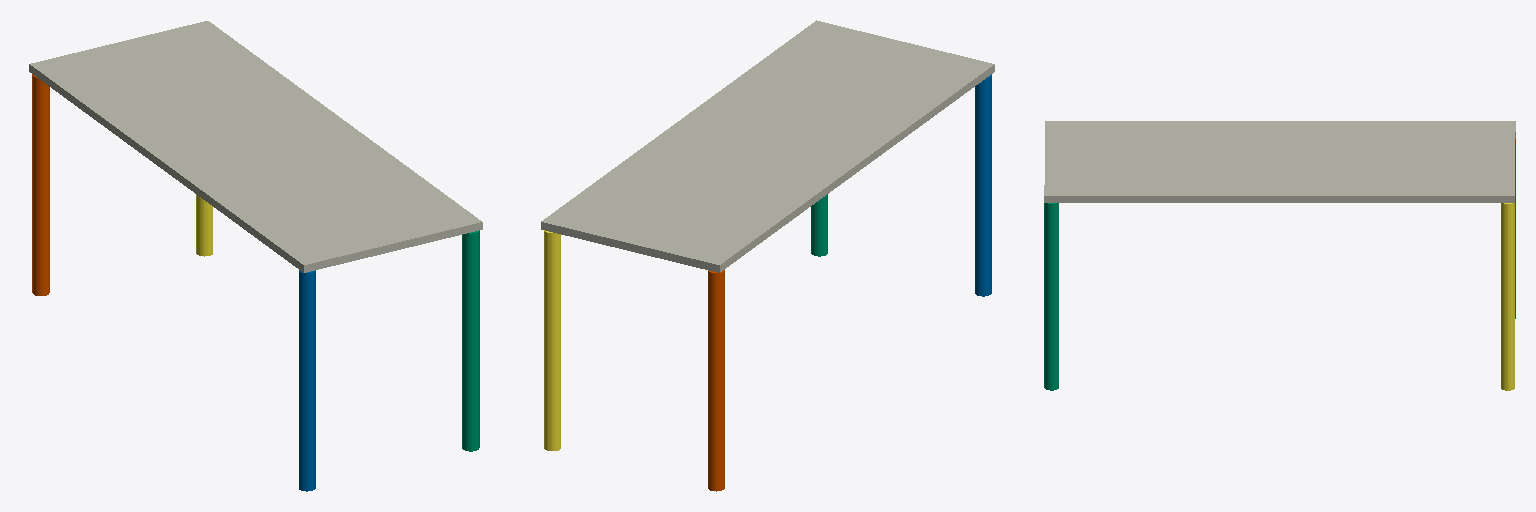
robot.urdf — table:
<robot name="table">
  <material name="KitchenWhite">
    <color rgba="0.75 0.75 0.7 1.0"/>
  </material>
  <material name="KitchenLightGray">
    <color rgba="0.7 0.7 0.7 1.0"/>
  </material>
  <link name="base_link">
    <inertial>
      <mass value="2.0"/>
      <inertia ixx="0.0601041666667" ixy="0" ixz="0" iyy="0.486666666667" iyz="0" izz="0.426770833333"/>
    </inertial>
  </link>
  <joint name="pancake_table_table_joint" type="fixed">
    <parent link="base_link"/>
    <child link="pancake_table_table_link"/>
    <origin rpy="0 0 1.57" xyz="0.8 0 0"/>
  </joint>
  <joint name="pancake_table_table_top_joint" type="fixed">
    <origin rpy="0 0 0" xyz="0 0 0.7175"/>
    <parent link="pancake_table_table_link"/>
    <child link="pancake_table_table_top_link"/>
  </joint>
  <link name="pancake_table_table_top_link">
    <inertial>
      <mass value="2.0"/>
      <inertia ixx="0.0601041666667" ixy="0" ixz="0" iyy="0.486666666667" iyz="0" izz="0.426770833333"/>
    </inertial>
    <visual>
      <origin rpy="0 0 0" xyz="0 0 0"/>
      <geometry>
        <box size="1.6 0.6 0.025"/>
      </geometry>
      <material name="KitchenWhite"/>
    </visual>
    <collision>
      <origin rpy="0 0 0" xyz="0 0 0"/>
      <geometry>
        <box size="1.6 0.6 0.025"/>
      </geometry>
    </collision>
  </link>
  <gazebo reference="pancake_table_table_top_link">
    <kp>100000</kp>
    <kd>1000000</kd>
    <mu1>50000</mu1>
    <mu2>50000</mu2>
    <material value="KitchenWhite"/>
  </gazebo>
  <joint name="pancake_table_first_leg_joint" type="fixed">
    <origin rpy="0 0 0 " xyz="-0.775 -0.275 0.350"/>
    <parent link="pancake_table_table_link"/>
    <child link="pancake_table_first_leg_link"/>
  </joint>
  <link name="pancake_table_first_leg_link">
    <inertial>
      <mass value="1.0"/>
      <inertia ixx="0.0409895833333" ixy="0" ixz="0" iyy="0.0003125" iyz="0" izz="0.0409895833333"/>
    </inertial>
    <visual>
      <origin rpy="0 0 0" xyz="0 0 0"/>
      <geometry>
        <cylinder length="0.700" radius="0.025"/>
      </geometry>
    </visual>
    <collision>
      <origin rpy="0 0 0" xyz="0 0 0"/>
      <geometry>
        <cylinder length="0.700" radius="0.025"/>
      </geometry>
    </collision>
  </link>
  <gazebo reference="pancake_table_first_leg_link">
    <material value="KitchenLightGray"/>
  </gazebo>
  <joint name="pancake_table_second_leg_joint" type="fixed">
    <origin rpy="0 0 0" xyz="0.775 -0.275 0.350"/>
    <parent link="pancake_table_table_link"/>
    <child link="pancake_table_second_leg_link"/>
  </joint>
  <link name="pancake_table_second_leg_link">
    <inertial>
      <mass value="1.0"/>
      <inertia ixx="0.0409895833333" ixy="0" ixz="0" iyy="0.0003125" iyz="0" izz="0.0409895833333"/>
    </inertial>
    <visual>
      <origin rpy="0 0 0" xyz="0 0 0"/>
      <geometry>
        <cylinder length="0.700" radius="0.025"/>
      </geometry>
    </visual>
    <collision>
      <origin rpy="0 0 0" xyz="0 0 0"/>
      <geometry>
        <cylinder length="0.700" radius="0.025"/>
      </geometry>
    </collision>
  </link>
  <gazebo reference="pancake_table_second_leg_link">
    <material value="KitchenLightGray"/>
  </gazebo>
  <joint name="pancake_table_third_leg_joint" type="fixed">
    <origin rpy="0 0 0" xyz="-0.775 0.275 0.350"/>
    <parent link="pancake_table_table_link"/>
    <child link="pancake_table_third_leg_link"/>
  </joint>
  <link name="pancake_table_third_leg_link">
    <inertial>
      <mass value="1.0"/>
      <inertia ixx="0.0409895833333" ixy="0" ixz="0" iyy="0.0003125" iyz="0" izz="0.0409895833333"/>
    </inertial>
    <visual>
      <origin rpy="0 0 0" xyz="0 0 0"/>
      <geometry>
        <cylinder length="0.700" radius="0.025"/>
      </geometry>
    </visual>
    <collision>
      <origin rpy="0 0 0" xyz="0 0 0"/>
      <geometry>
        <cylinder length="0.700" radius="0.025"/>
      </geometry>
    </collision>
  </link>
  <gazebo reference="pancake_table_third_leg_link">
    <material value="KitchenLightGray"/>
  </gazebo>
  <joint name="pancake_table_fourth_leg_joint" type="fixed">
    <origin rpy="0 0 0" xyz="0.775 0.275 0.350"/>
    <parent link="pancake_table_table_link"/>
    <child link="pancake_table_fourth_leg_link"/>
  </joint>
  <link name="pancake_table_fourth_leg_link">
    <inertial>
      <mass value="1.0"/>
      <inertia ixx="0.0409895833333" ixy="0" ixz="0" iyy="0.0003125" iyz="0" izz="0.0409895833333"/>
    </inertial>
    <visual>
      <origin rpy="0 0 0" xyz="0 0 0"/>
      <geometry>
        <cylinder length="0.700" radius="0.025"/>
      </geometry>
    </visual>
    <collision>
      <origin rpy="0 0 0" xyz="0 0 0"/>
      <geometry>
        <cylinder length="0.700" radius="0.025"/>
      </geometry>
    </collision>
  </link>
  <gazebo reference="pancake_table_fourth_leg_link">
    <material value="KitchenLightGray"/>
  </gazebo>
  <link name="pancake_table_table_link">
    <inertial>
      <mass value="0"/>
      <inertia ixx="0.0" ixy="0" ixz="0" iyy="0.0" iyz="0" izz="0.0"/>
    </inertial>
  </link>
</robot>

--- Render facts (derived) ---
The picture shows the robot from 3 angles, left to right: view 1: azimuth 30°, elevation 25°; view 2: azimuth 150°, elevation 25°; view 3: azimuth 270°, elevation 25°; orthographic projection.
Model table with 7 links and 6 joints (6 fixed), rooted at base_link, posed all joints at 0.
Links seen in each view (by area): view 1: pancake_table_table_top_link, pancake_table_first_leg_link, pancake_table_fourth_leg_link, pancake_table_third_leg_link, pancake_table_second_leg_link; view 2: pancake_table_table_top_link, pancake_table_fourth_leg_link, pancake_table_second_leg_link, pancake_table_third_leg_link, pancake_table_first_leg_link; view 3: pancake_table_table_top_link, pancake_table_first_leg_link, pancake_table_second_leg_link.
Link boxes in pixels (left/top/right/bottom): pancake_table_table_top_link: left=29, top=21, right=482, bottom=272; pancake_table_first_leg_link: left=462, top=230, right=479, bottom=451; pancake_table_fourth_leg_link: left=32, top=74, right=49, bottom=295; pancake_table_third_leg_link: left=299, top=270, right=315, bottom=491; pancake_table_second_leg_link: left=196, top=194, right=212, bottom=256; pancake_table_table_top_link: left=541, top=20, right=994, bottom=272; pancake_table_fourth_leg_link: left=708, top=270, right=724, bottom=491; pancake_table_second_leg_link: left=544, top=230, right=560, bottom=450; pancake_table_third_leg_link: left=975, top=74, right=991, bottom=296; pancake_table_first_leg_link: left=811, top=194, right=827, bottom=256; pancake_table_table_top_link: left=1044, top=121, right=1515, bottom=202; pancake_table_first_leg_link: left=1044, top=203, right=1058, bottom=390; pancake_table_second_leg_link: left=1501, top=203, right=1514, bottom=390.
Size in the robot's own frame: 0.6013 by 1.6 by 0.73 metres.
Geometry: primitives only (box / cylinder / sphere), no mesh files.